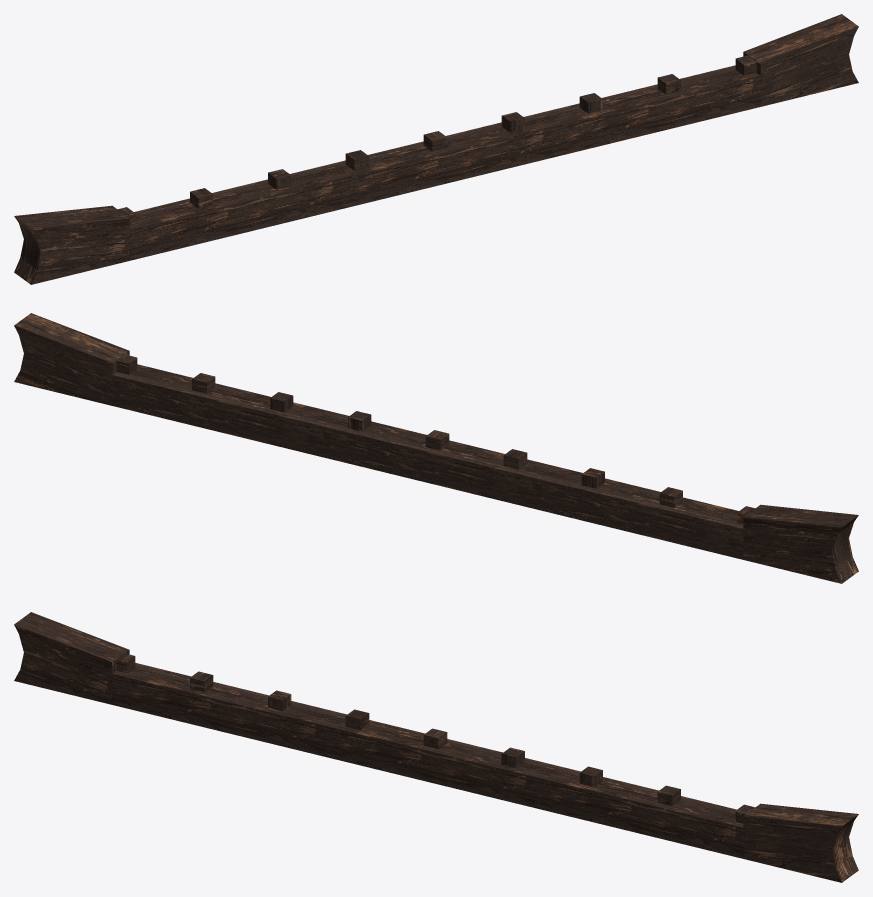
File: LargeArch.fbx
3 views of the same model, one above another, from view 1: azimuth 30°, elevation 25°; view 2: azimuth 150°, elevation 25°; view 3: azimuth 330°, elevation 25° (orthographic).
Parts seen in each view (by area): view 1: roof_decor_1; view 2: roof_decor_1; view 3: roof_decor_1.
Part boxes in pixels (box(x1,y1,x2,y2)): roof_decor_1: box(14, 14, 858, 284); roof_decor_1: box(14, 313, 858, 583); roof_decor_1: box(14, 612, 858, 882).
Size of the model in its own units: 335 by 21.78 by 12.
